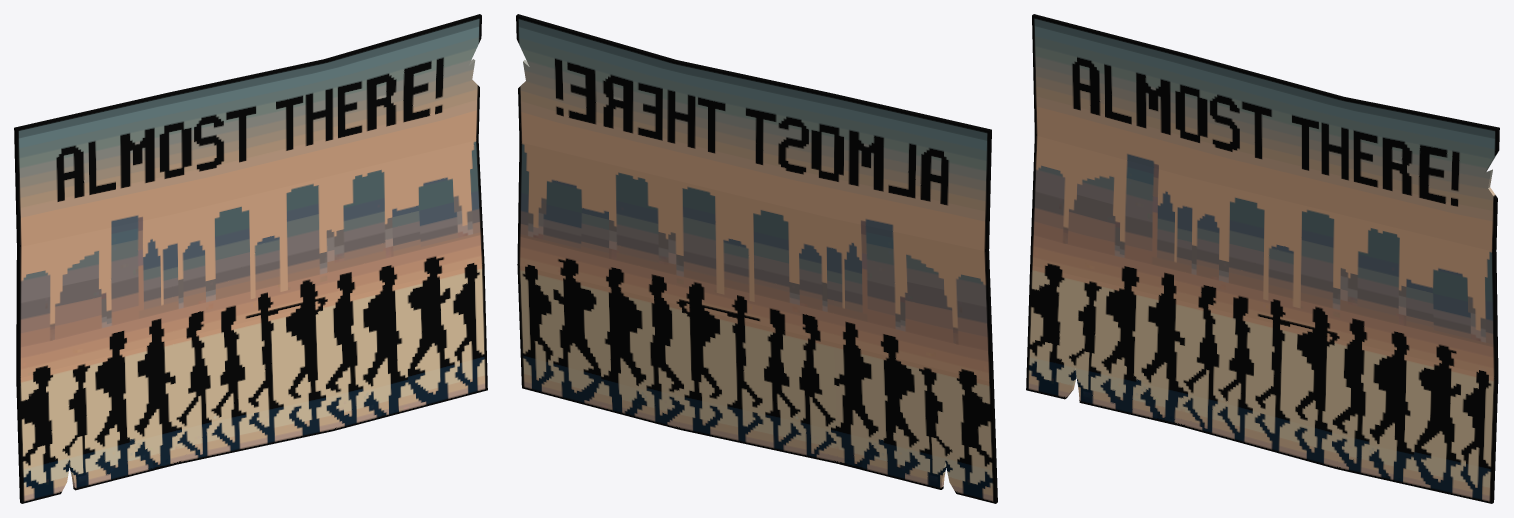
3 views of the same model, side by side, from view 1: azimuth 30°, elevation 25°; view 2: azimuth 150°, elevation 25°; view 3: azimuth 330°, elevation 25° (orthographic).
Visible parts, largest first — view 1: AlmostTherePoster; view 2: AlmostTherePoster; view 3: AlmostTherePoster.
Boxes of the visible parts, x1,y1,x2,y2 form: AlmostTherePoster: (14,14,487,503); AlmostTherePoster: (516,14,997,503); AlmostTherePoster: (1026,14,1499,503).
Size of the model in its own units: 132 by 101 by 3.9.
Materials: 1 (1 with a texture image).
